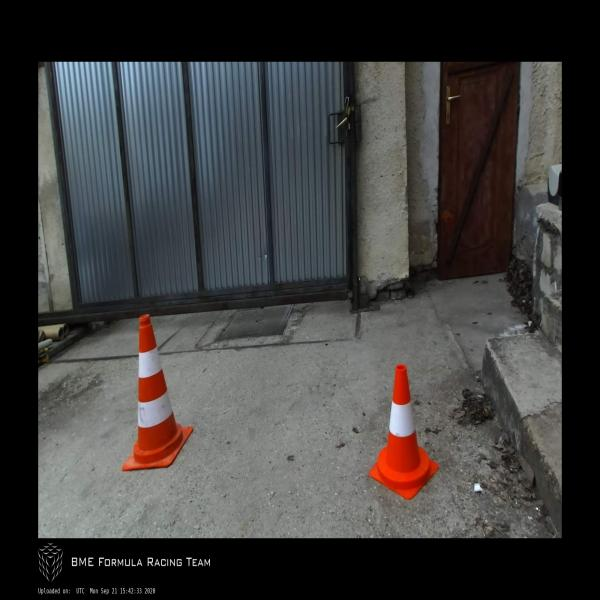large_orange_cone: (121, 313, 193, 472)
orange_cone: (370, 364, 440, 501)
